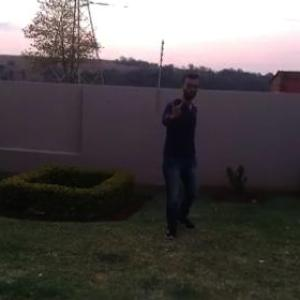takeoff-hand: (165, 96, 187, 122)
